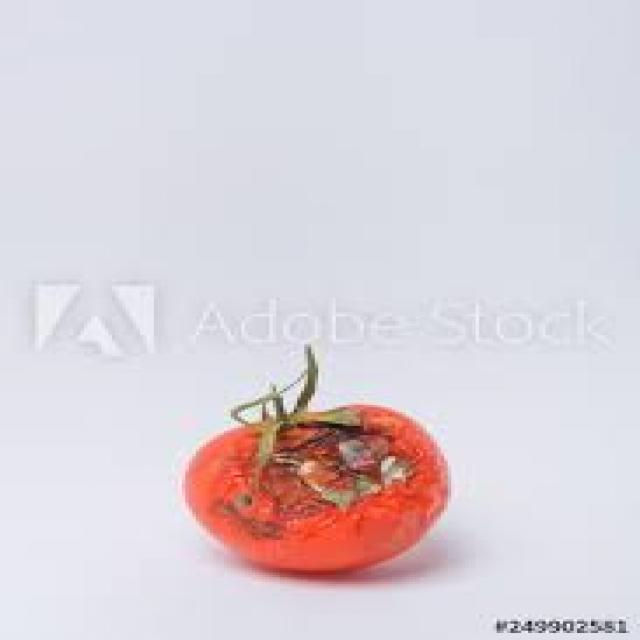organic waste: (178, 342, 444, 573)
